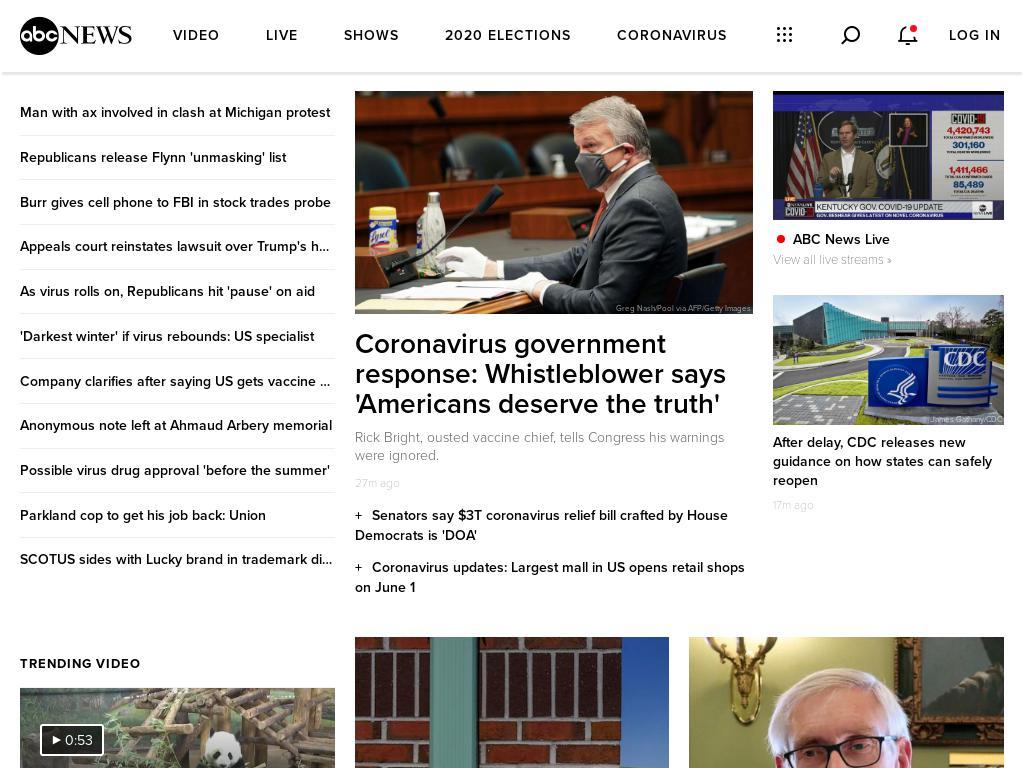button: (422, 1, 594, 73), (594, 1, 750, 73), (40, 740, 315, 768), (321, 1, 422, 73), (150, 1, 243, 73), (243, 1, 321, 73), (949, 1, 1024, 73), (772, 295, 773, 296), (354, 637, 355, 638), (689, 637, 690, 638)
heading: (354, 328, 726, 423), (772, 434, 992, 490), (20, 239, 385, 257), (20, 552, 357, 570), (20, 373, 336, 391), (20, 418, 332, 436), (20, 194, 331, 212), (20, 105, 330, 123), (20, 462, 330, 480), (20, 284, 315, 302), (20, 328, 314, 346), (20, 150, 286, 168), (20, 507, 266, 525), (20, 659, 335, 673), (792, 232, 890, 250)
image: (354, 92, 753, 317), (354, 638, 670, 768), (689, 638, 1004, 768), (772, 92, 1004, 230), (772, 296, 1004, 427), (20, 689, 335, 768)
link: (354, 560, 745, 598), (354, 508, 728, 546), (772, 253, 892, 270)
text: (772, 91, 1004, 221), (20, 688, 335, 768), (354, 430, 753, 467), (354, 474, 753, 495), (750, 1, 821, 73), (772, 495, 1004, 516), (613, 304, 753, 316), (928, 414, 1004, 426), (63, 733, 95, 751)
